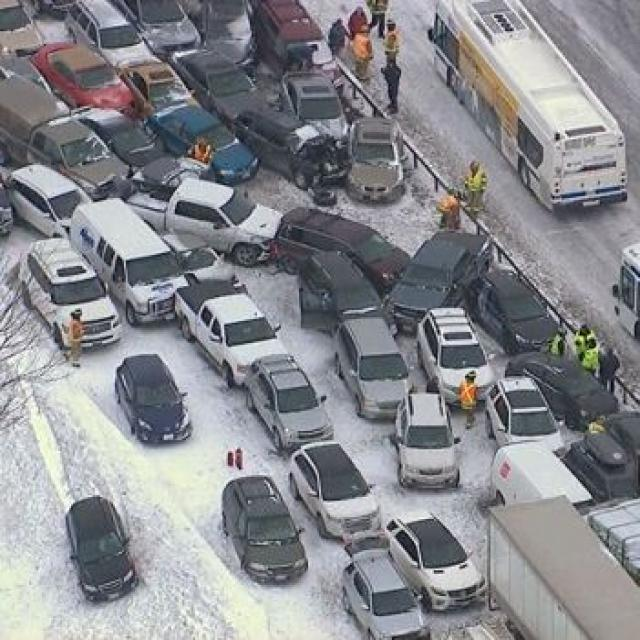traffic_incident: (0, 4, 396, 240), (239, 136, 514, 403)
